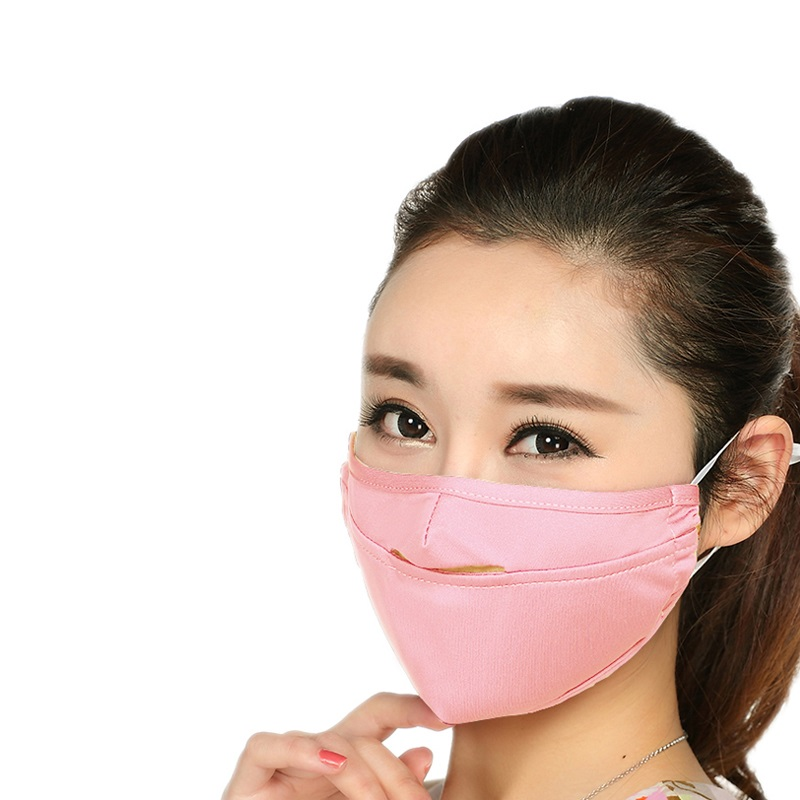face_mask: (343, 236, 699, 720)
